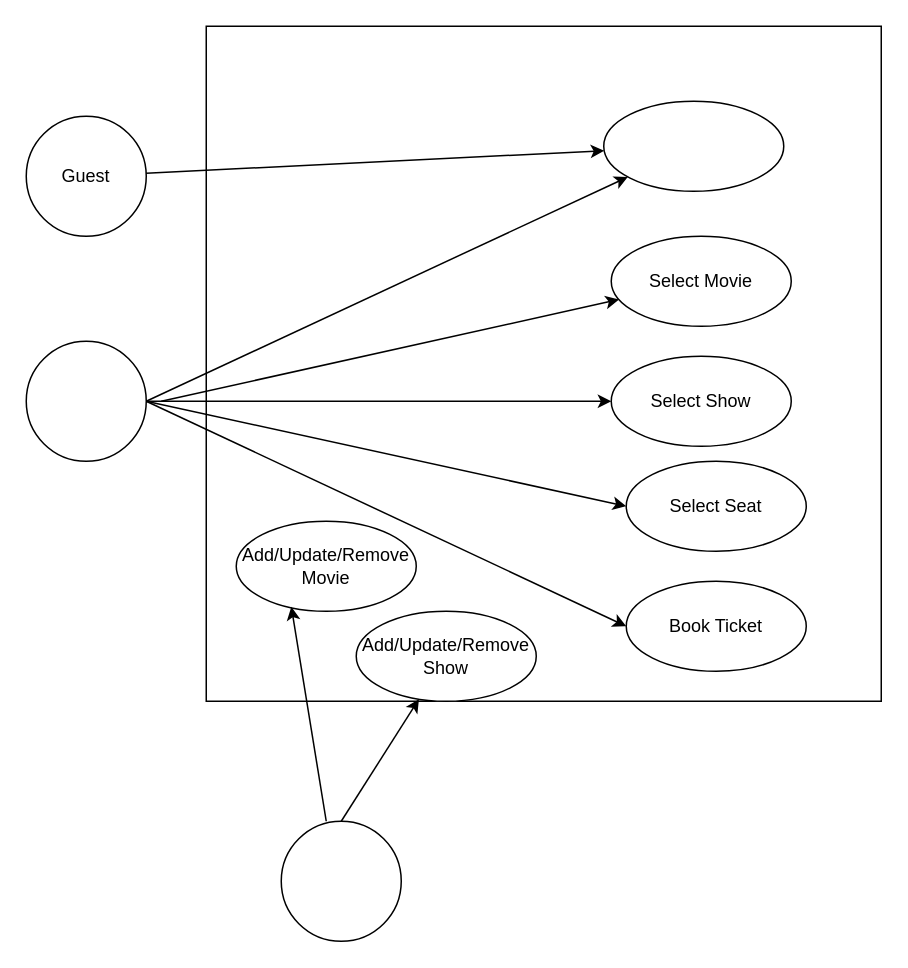
This 908x968 diagram has some shape labels left out. Each missing label, with the box of its shape:
Admin: (280, 820, 401, 941)
Member: (25, 340, 146, 461)
Search Movies: (602, 100, 784, 191)
